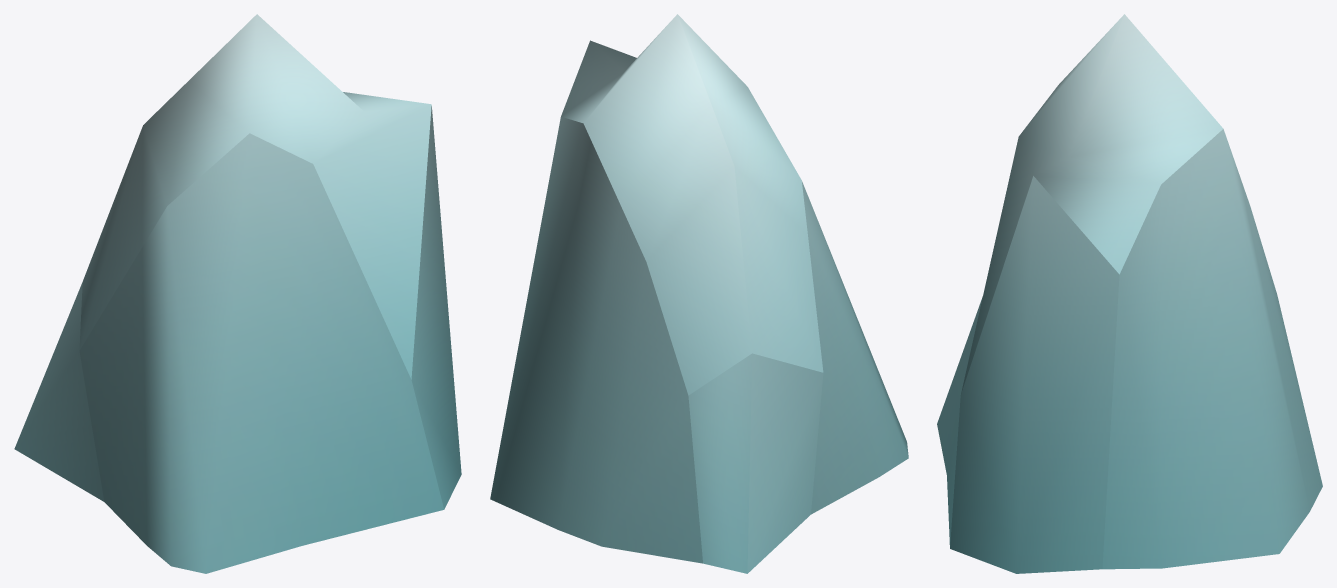
Rendered from Ice_V1_paint.fbx.
3 views of the same model, side by side, from view 1: azimuth 30°, elevation 25°; view 2: azimuth 150°, elevation 25°; view 3: azimuth 270°, elevation 25° (orthographic). The views are drawn at different scales.
Visible parts, largest first — view 1: V1; view 2: V1; view 3: V1.
Boxes of the visible parts, left/top/right/bottom form: V1: left=14, top=14, right=461, bottom=573; V1: left=490, top=14, right=908, bottom=573; V1: left=937, top=14, right=1322, bottom=573.
Bounding box in the file's own units: 1 × 1.4 × 1.02.
